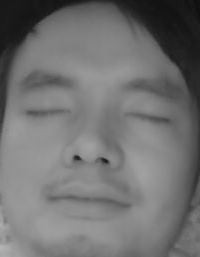blink: (24, 102, 68, 123), (126, 106, 168, 128)
mouth: (42, 173, 129, 220)
